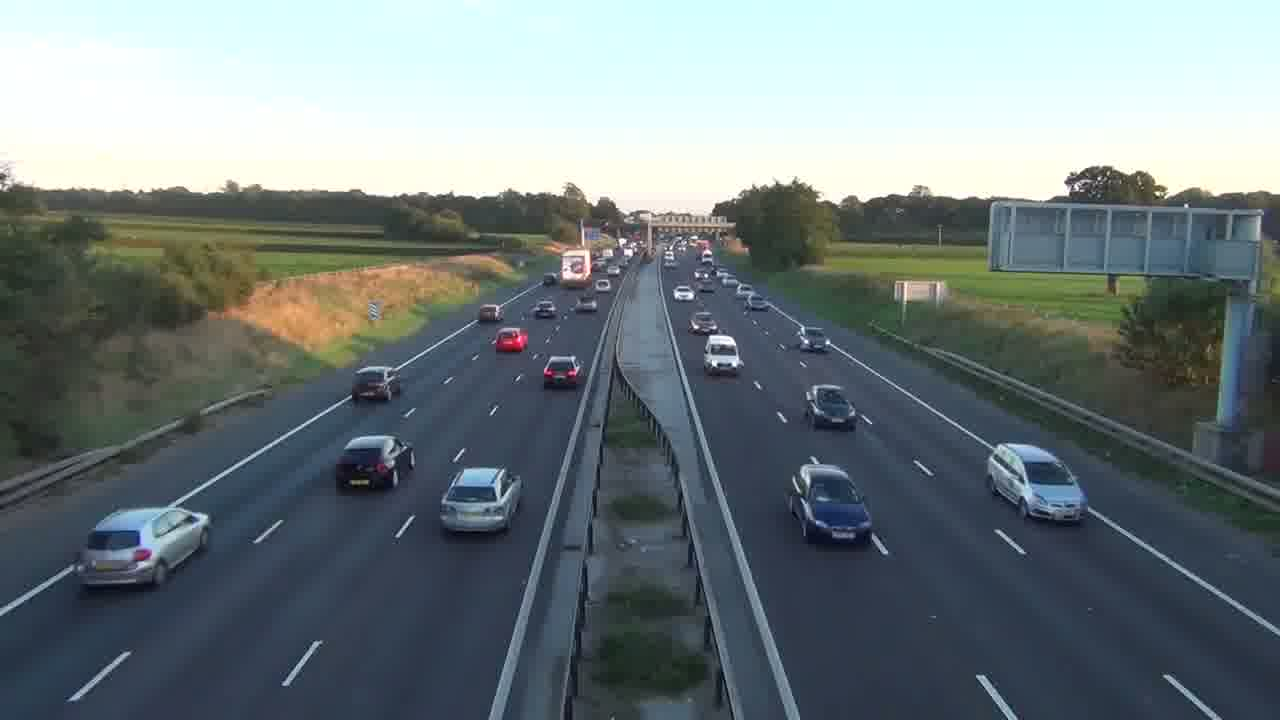car: (76, 504, 211, 590), (986, 441, 1089, 525), (786, 459, 874, 544), (438, 465, 525, 534), (334, 433, 415, 490), (803, 384, 858, 431), (805, 384, 858, 431), (350, 365, 401, 402), (703, 334, 744, 377), (542, 354, 581, 389), (491, 327, 528, 353)
